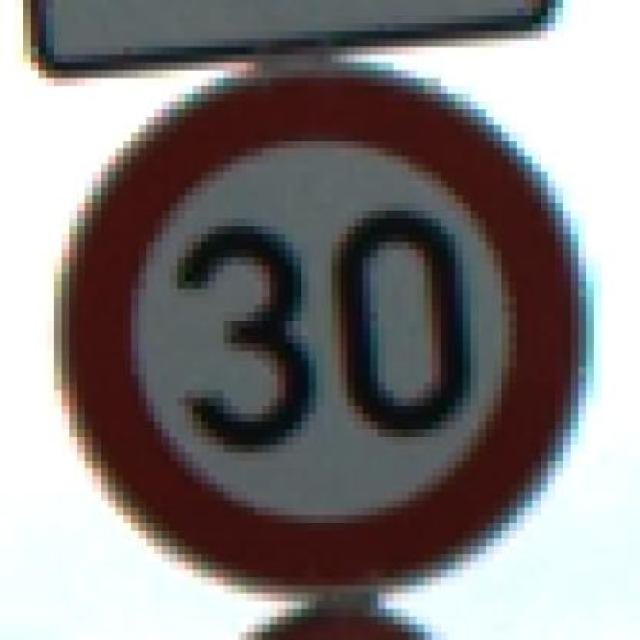Speed Limit 30 KMPh: (31, 62, 609, 608)
